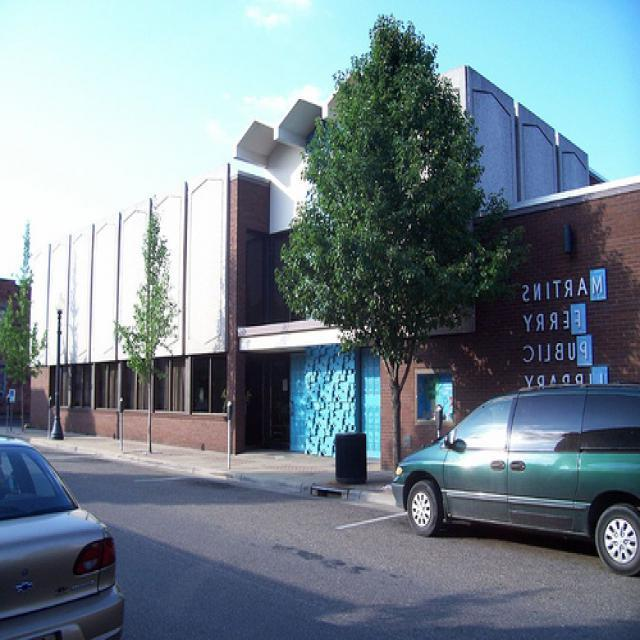Car: (379, 358, 640, 594), (1, 421, 155, 640)
